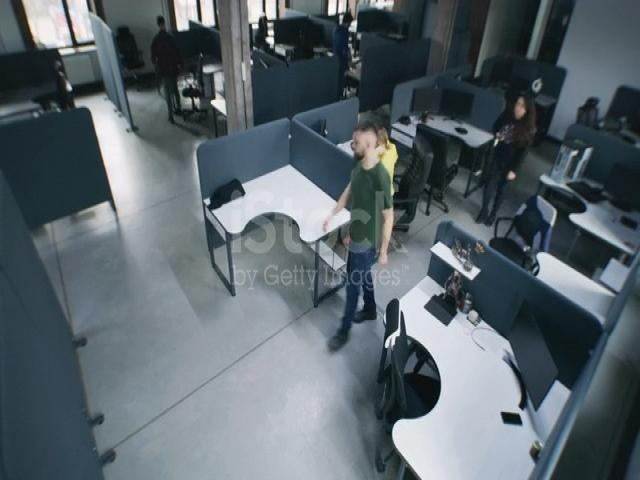EMPTY_CHAIR: (367, 291, 422, 469), (479, 179, 551, 267), (412, 121, 462, 201), (112, 17, 151, 81), (45, 53, 83, 115), (491, 73, 555, 109), (184, 61, 210, 131), (572, 90, 607, 139)
PERSON_IN_CHAIR: (369, 124, 425, 258), (338, 30, 375, 100)
